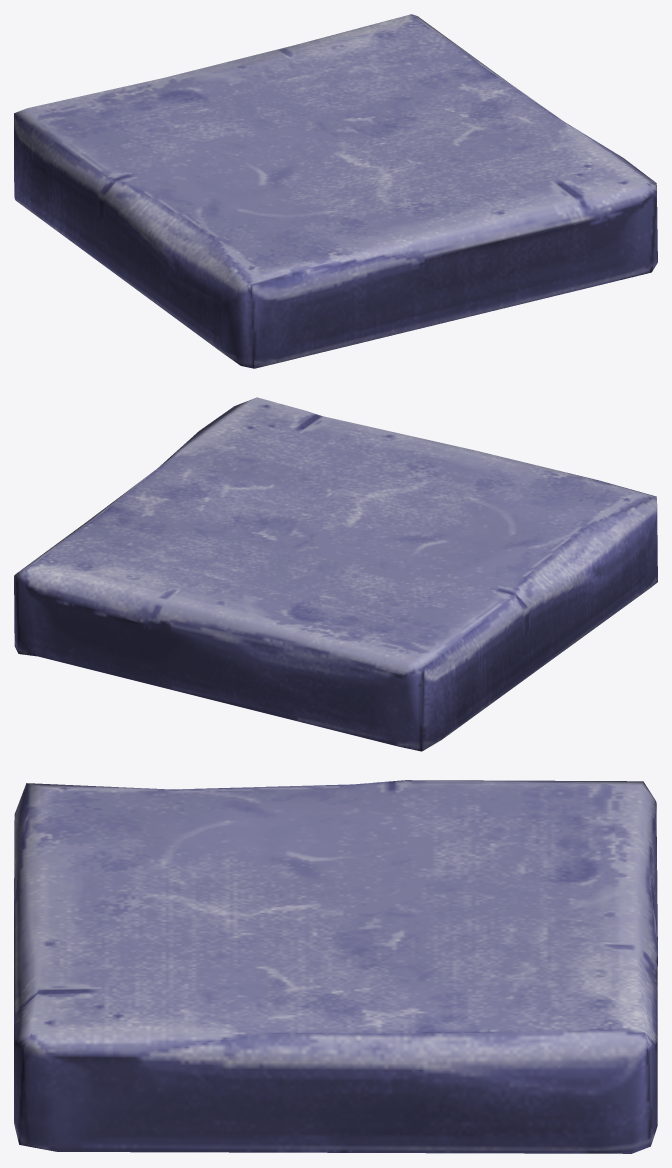
File: floorTileGray.glb
3 views of the same model, one above another, from view 1: azimuth 30°, elevation 25°; view 2: azimuth 150°, elevation 25°; view 3: azimuth 270°, elevation 25° (orthographic). The views are drawn at different scales.
Visible parts, largest first — view 1: Tile2_02; view 2: Tile2_02; view 3: Tile2_02.
Boxes of the visible parts, x1=… form: Tile2_02: x1=14, y1=14, x2=657, y2=368; Tile2_02: x1=14, y1=397, x2=657, y2=751; Tile2_02: x1=14, y1=780, x2=657, y2=1153.
Size of the model in its own units: 0.2855 by 0.056 by 0.2854.
Materials: 1 (1 with a texture image).
